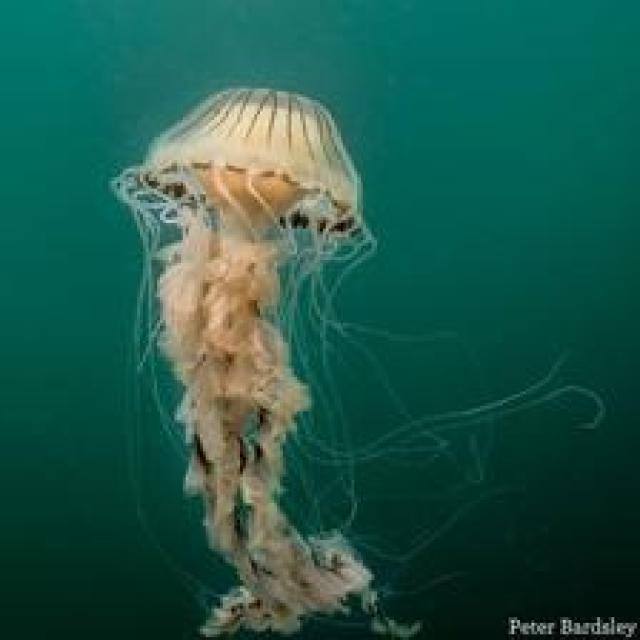Box-jellyfish: (105, 83, 606, 637)
